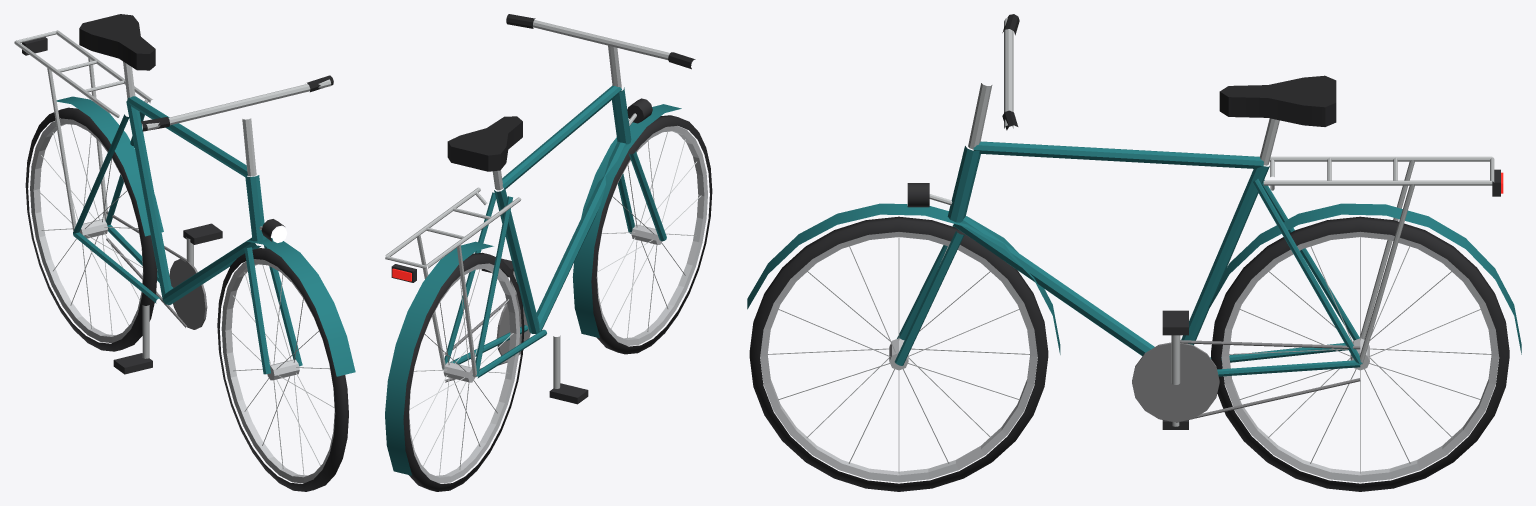
File: bicycle.glb
3 views of the same model, side by side, from view 1: azimuth 30°, elevation 25°; view 2: azimuth 150°, elevation 25°; view 3: azimuth 270°, elevation 25° (orthographic). The views are drawn at different scales.
Parts seen in each view (by area): view 1: bicycle_body, Wheel_F, Wheel_R, Crank; view 2: bicycle_body, Wheel_F, Wheel_R, Crank; view 3: bicycle_body, Wheel_F, Wheel_R, Crank.
Part boxes in pixels (x1,y1,x2,y2): bicycle_body: [14, 14, 355, 376]; Wheel_F: [217, 248, 348, 491]; Wheel_R: [25, 107, 157, 351]; Crank: [113, 223, 222, 374]; bicycle_body: [385, 14, 695, 475]; Wheel_F: [591, 115, 712, 354]; Wheel_R: [403, 252, 524, 491]; Crank: [481, 258, 588, 404]; bicycle_body: [747, 14, 1521, 422]; Wheel_F: [749, 216, 1048, 491]; Wheel_R: [1211, 216, 1509, 491]; Crank: [1132, 310, 1219, 429].
Bounding box in the file's own units: 0.0302 × 0.0527 × 0.0881.
4 materials, 1 textured.
